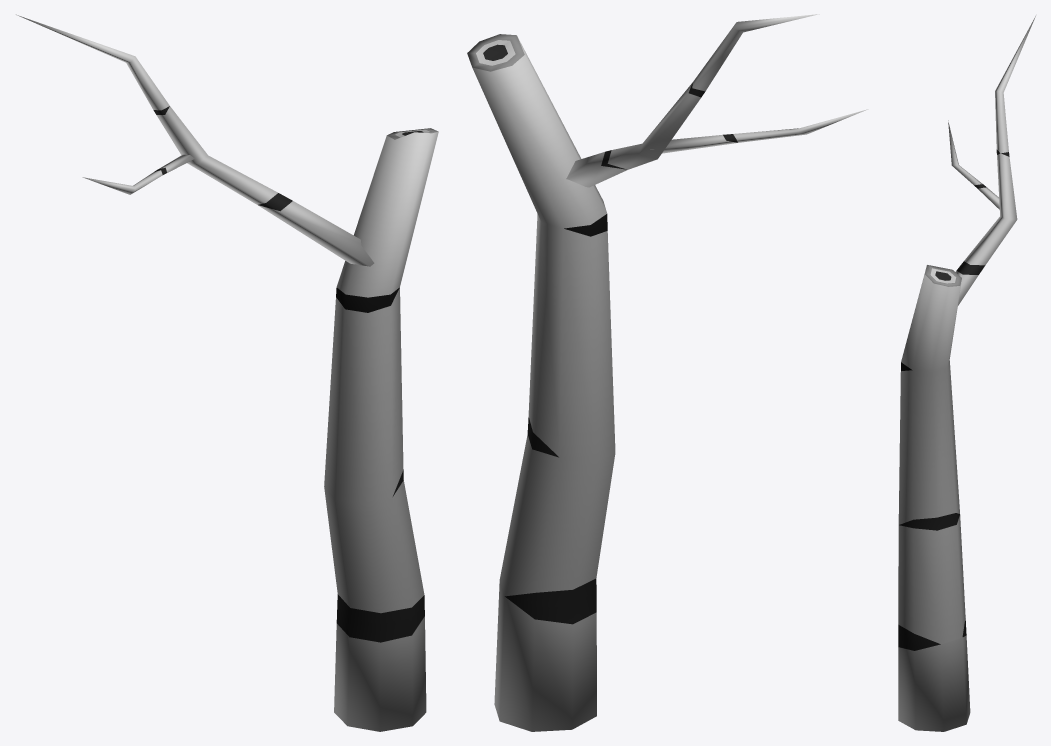
The model's file is birch9.glb.
3 renders of one model, left to right at view 1: azimuth 30°, elevation 25°; view 2: azimuth 150°, elevation 25°; view 3: azimuth 270°, elevation 25°, orthographic. The views are drawn at different scales.
Visible parts, largest first — view 1: birch9; view 2: birch9; view 3: birch9.
Part boxes in pixels (<box>): birch9: <box>16,14,438,731</box>; birch9: <box>467,14,868,731</box>; birch9: <box>898,16,1035,731</box>.
Size of the model in its own units: 2.06 by 3.94 by 0.8477.
Materials: 1 (1 with a texture image).
